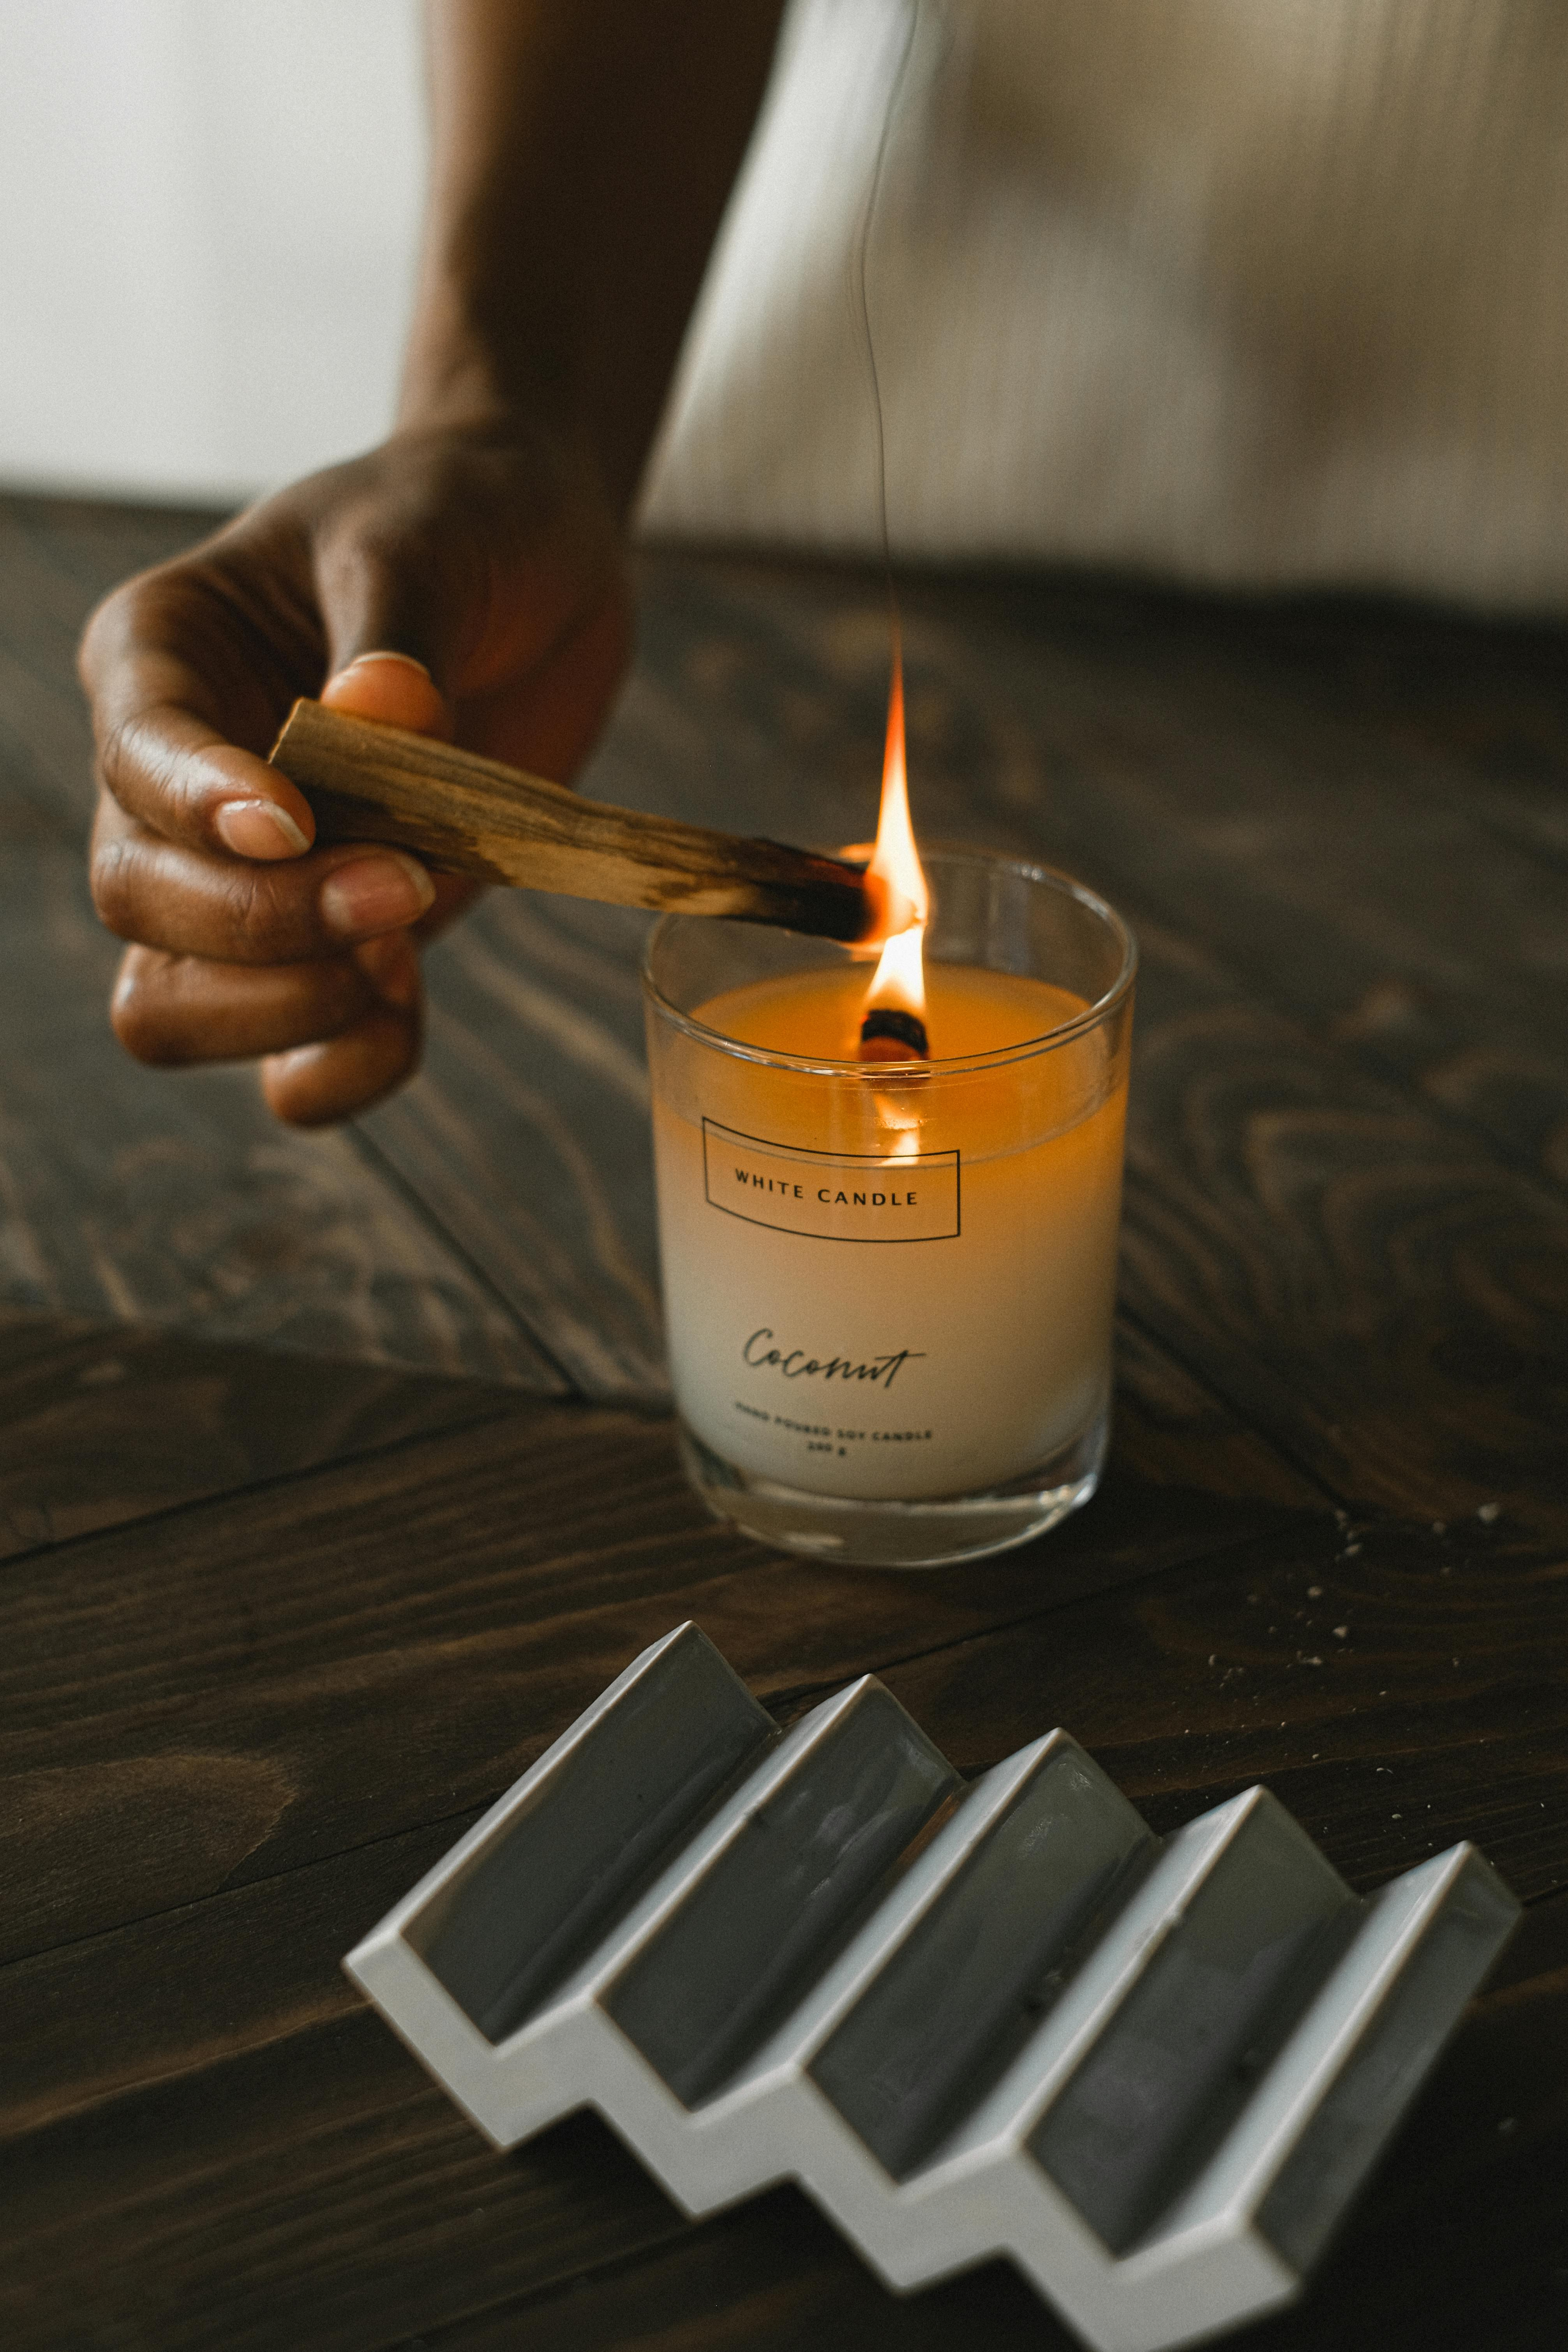Fire: (842, 667, 945, 1155)
